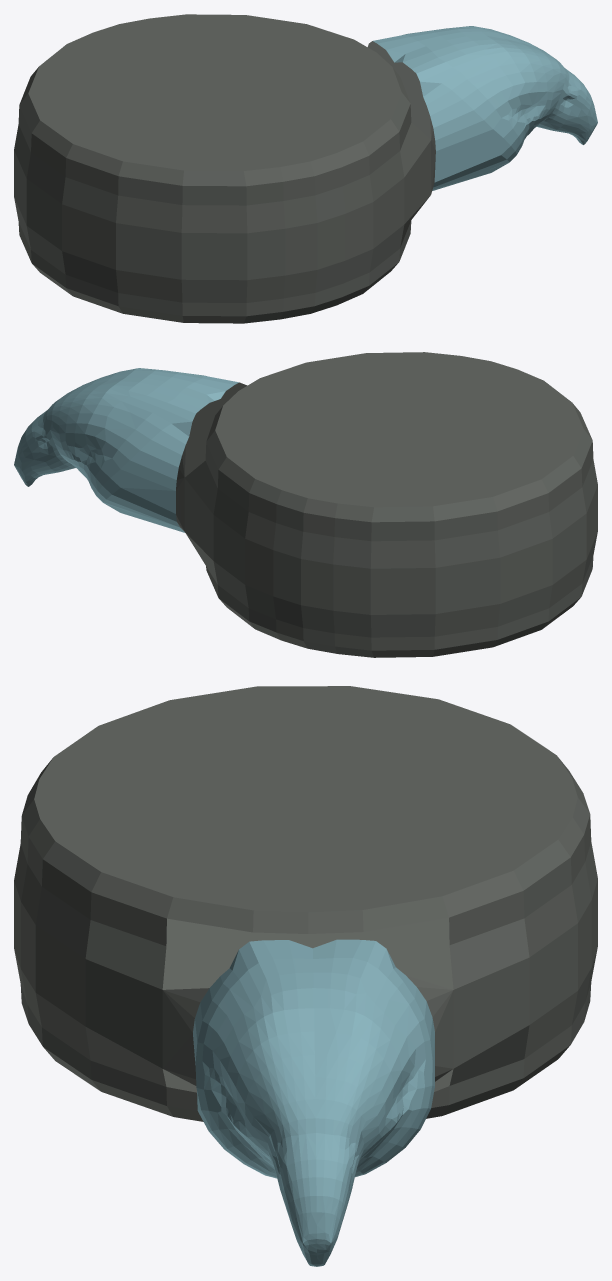
The model's file is eagle_head.fbx.
3 renders of one model, top to bottom at view 1: azimuth 30°, elevation 25°; view 2: azimuth 150°, elevation 25°; view 3: azimuth 270°, elevation 25°, orthographic. The views are drawn at different scales.
Visible parts, largest first — view 1: eagle_head; view 2: eagle_head; view 3: eagle_head.
Part boxes in pixels (x1,y1,x2,y2): eagle_head: (14, 14, 597, 323); eagle_head: (14, 352, 597, 657); eagle_head: (14, 686, 597, 1266).
Size of the model in its own units: 1180 by 322 by 747.
